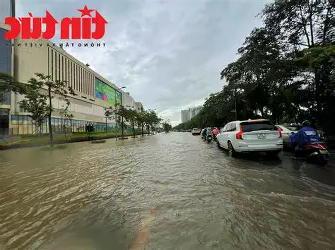ROAD_FLOODING: (15, 111, 313, 234)
